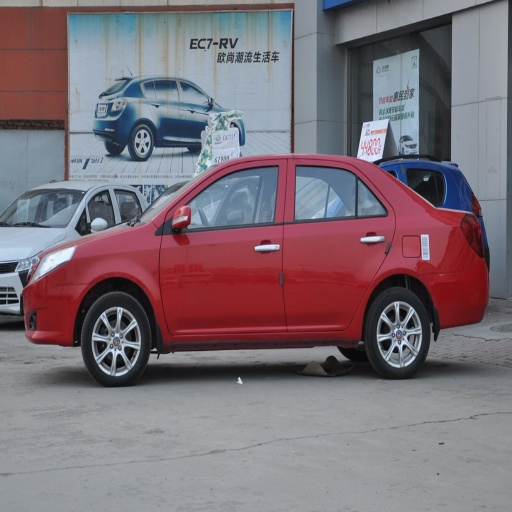back_bumper: (436, 289, 487, 327)
back_glass: (403, 166, 474, 207)
back_left_door: (283, 158, 394, 330)
front_glass: (8, 191, 85, 226)
front_left_door: (160, 159, 286, 335)
